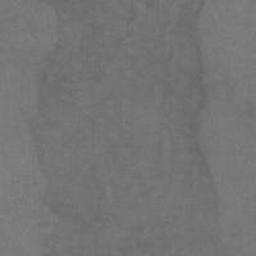Water spot: (28, 0, 229, 255)
